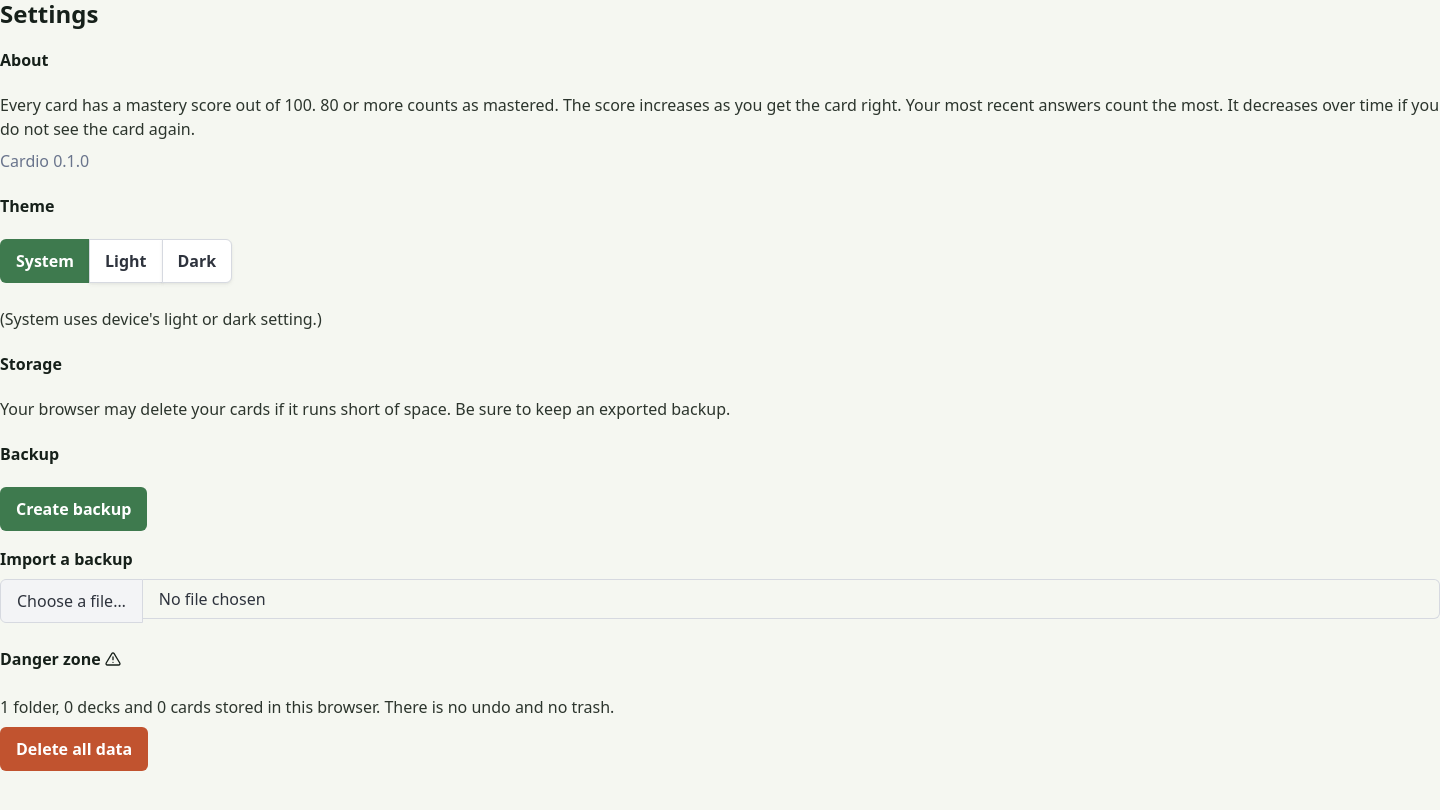
SettingsView › the danger zone › holds the delete behind a typed confirmation
Click the button with test id "delete-all". click: (74, 749)
box: [0,727,148,771]
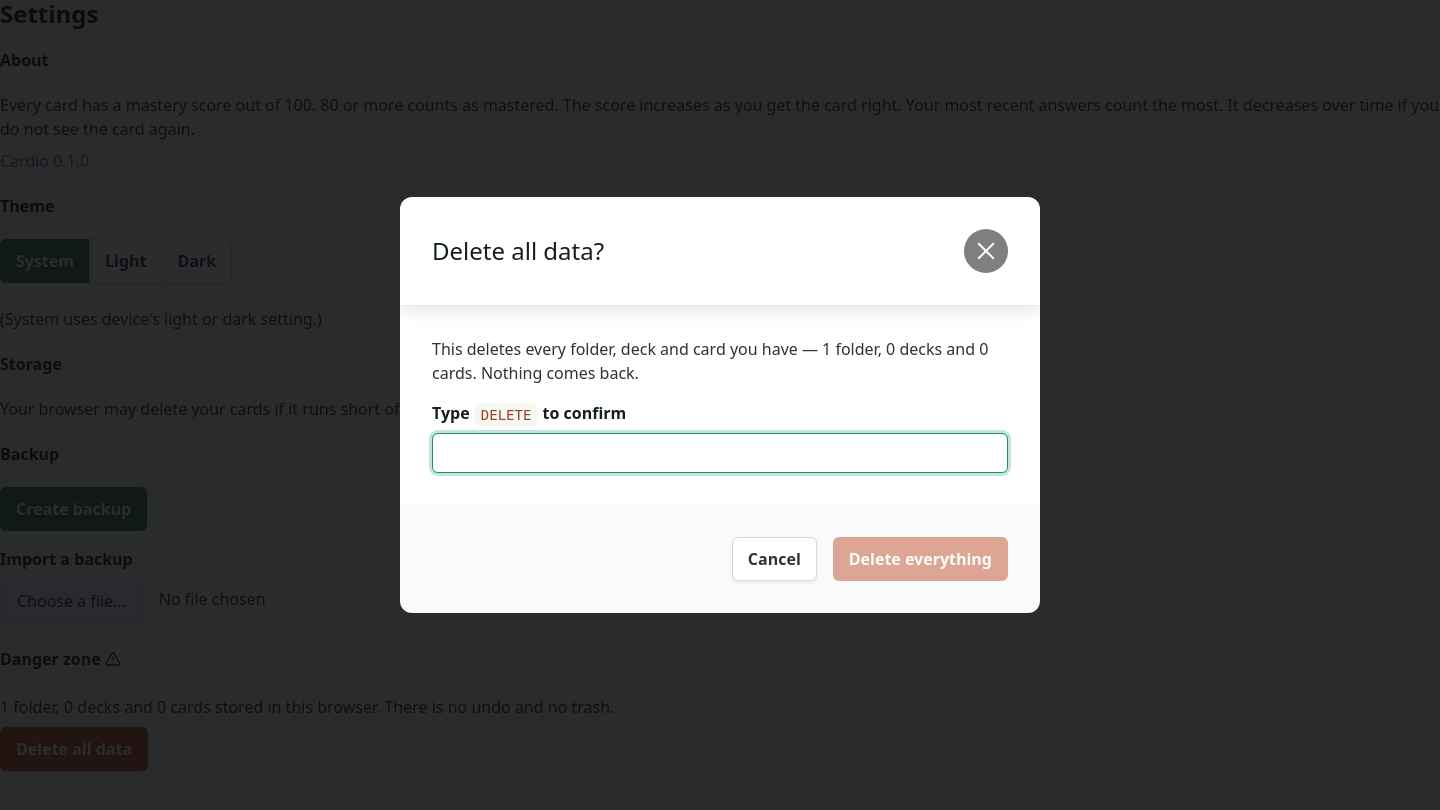
Check: the element with test id "typed-confirm-dialog" is shown
